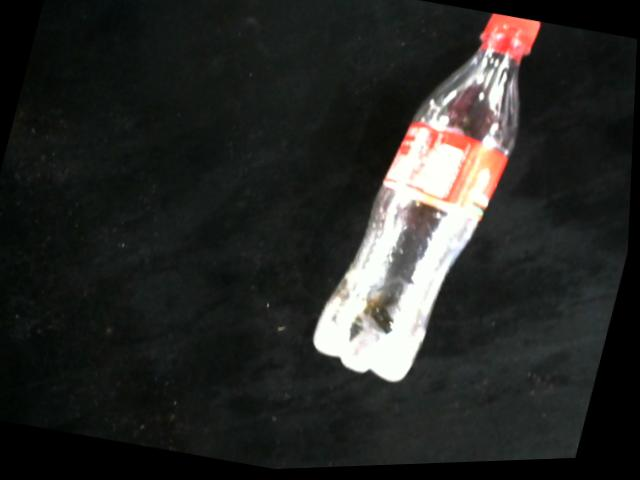bottle: (314, 17, 543, 386)
